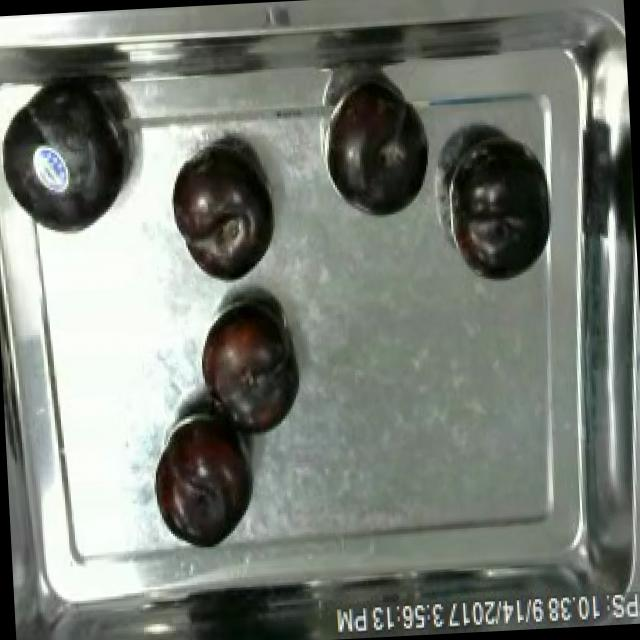Fruit: (0, 74, 137, 242), (163, 143, 284, 291), (444, 142, 558, 290), (318, 81, 431, 228), (149, 408, 262, 554), (197, 294, 306, 442)
